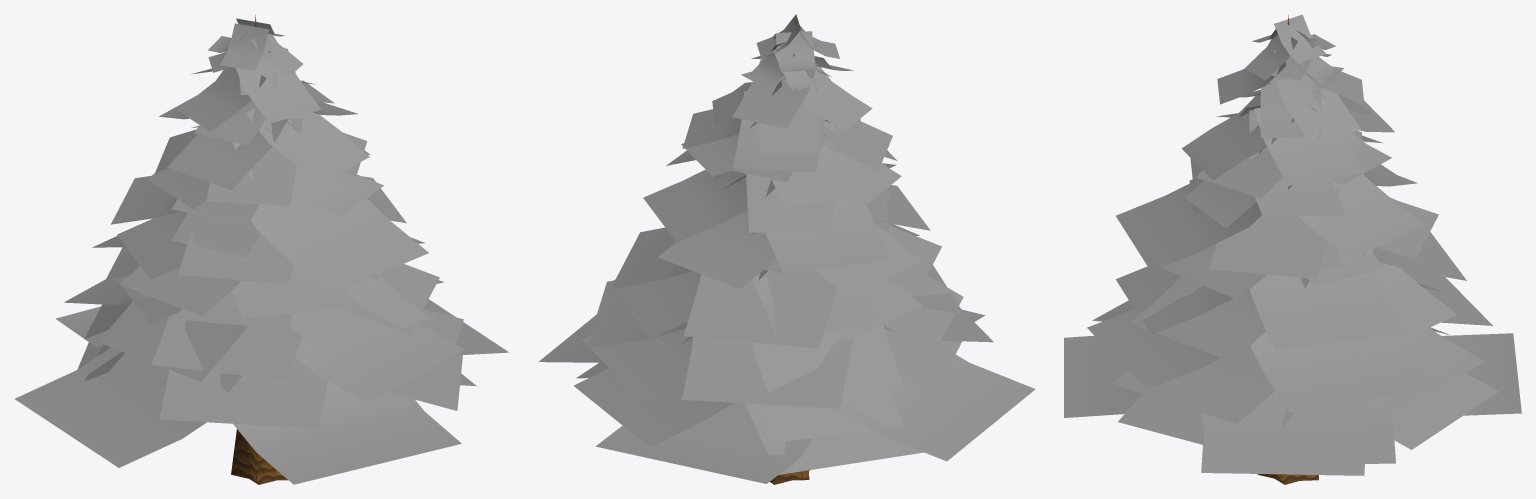
The model's file is Pine01.FBX.
3 views of the same model, side by side, from view 1: azimuth 30°, elevation 25°; view 2: azimuth 150°, elevation 25°; view 3: azimuth 270°, elevation 25° (orthographic). The views are drawn at different scales.
Parts seen in each view (by area): view 1: LeafPine, Pine01; view 2: LeafPine; view 3: LeafPine.
Boxes of the visible parts, <box> form: LeafPine: <box>15,18,508,484</box>; Pine01: <box>231,15,287,484</box>; LeafPine: <box>539,14,1035,483</box>; LeafPine: <box>1064,14,1521,475</box>.
Size of the model in its own units: 49.91 by 53.69 by 49.47.
